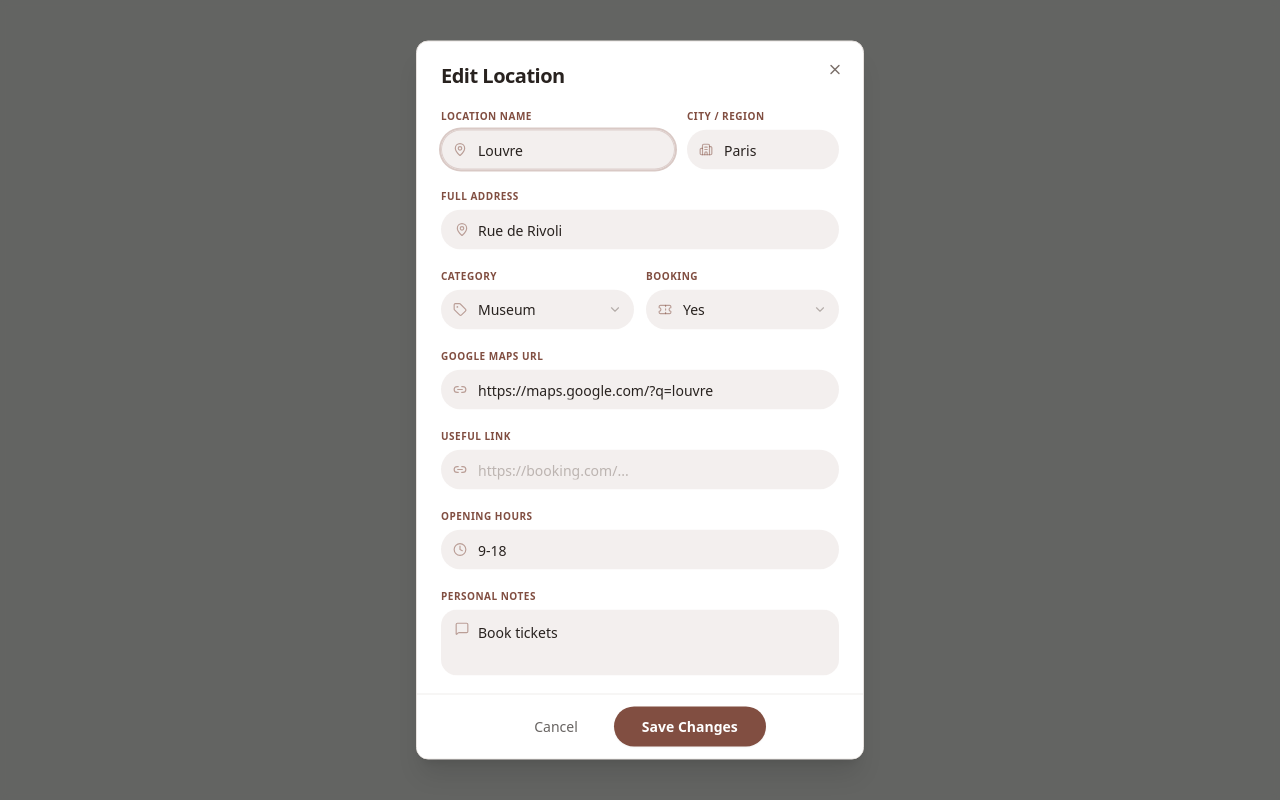
Test case: EditLocationRow › shows 'Saving…' while submitting
This screenshot has width=1280, height=800.
Click the button "Save Changes" at coordinates (690, 726), box left=614, top=706, right=766, bottom=746
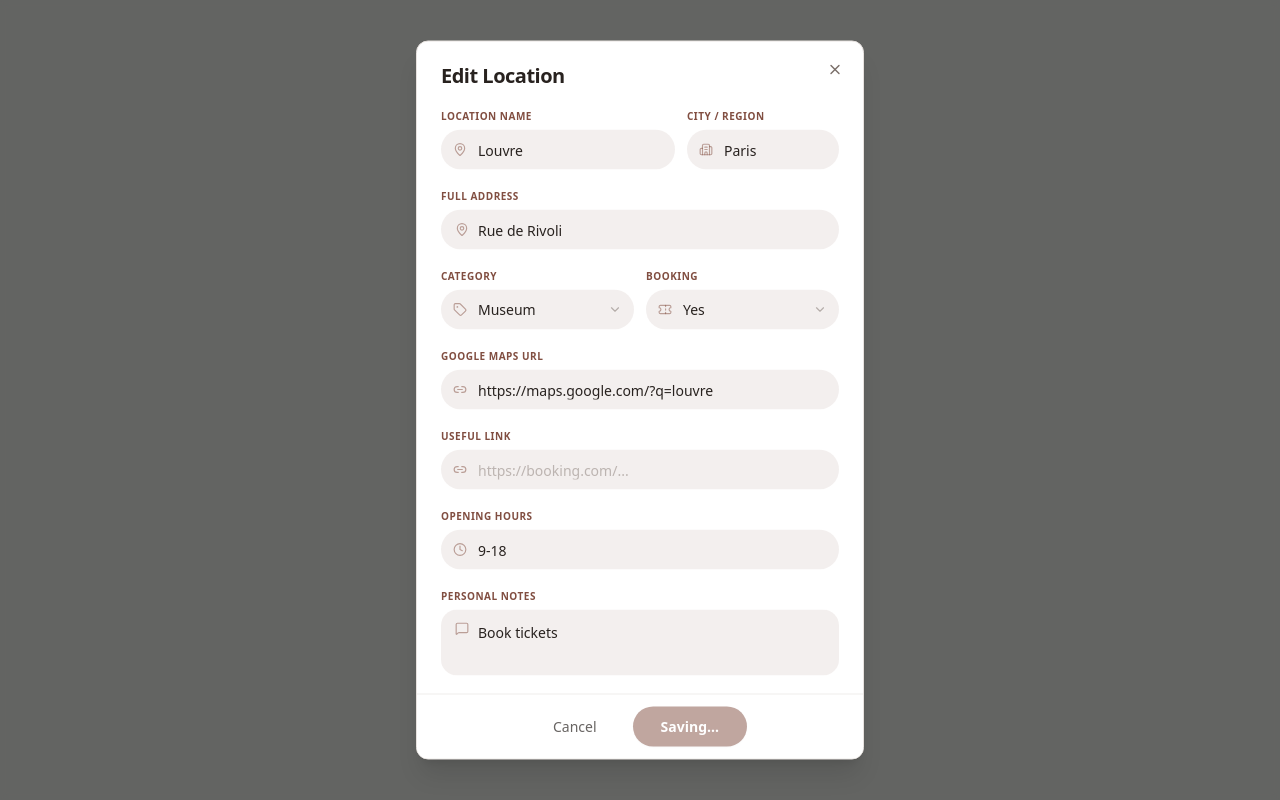
Result: the button "Saving…" is shown at left=633, top=706, right=747, bottom=746
